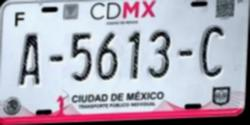License_Plate: (0, 0, 244, 119)
